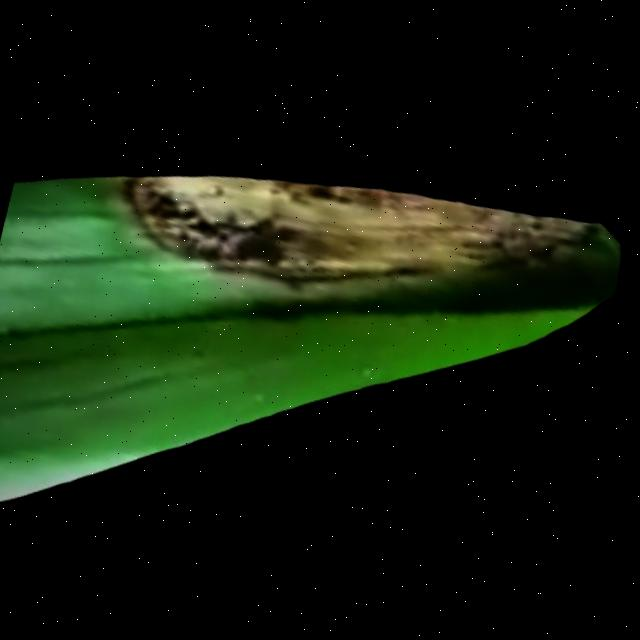mite: (117, 172, 250, 270), (142, 185, 206, 235), (0, 320, 22, 420), (579, 213, 616, 252), (148, 191, 183, 221), (354, 356, 387, 386), (203, 177, 235, 204), (0, 320, 17, 354), (209, 181, 230, 200), (193, 344, 212, 361), (361, 362, 379, 378)
sunburn: (106, 108, 605, 363)
